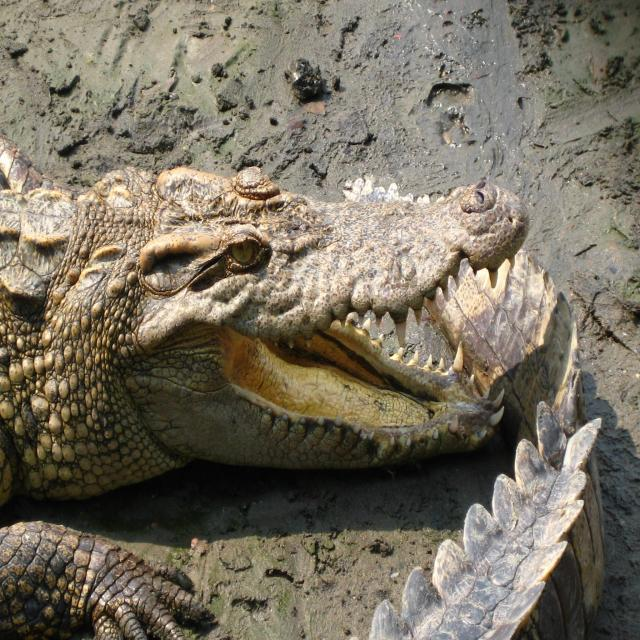crocodile: (0, 103, 631, 640)
